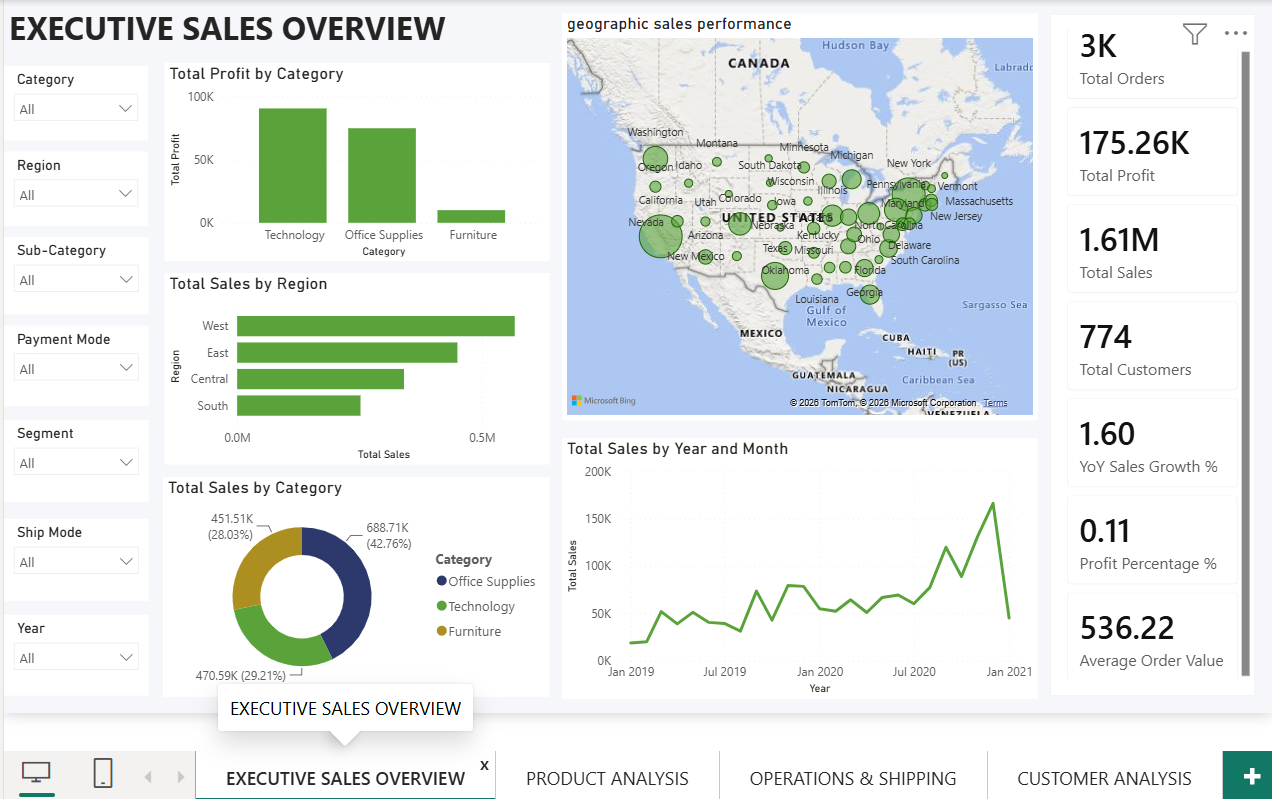

This screenshot's page, from the dashboard's own definition file:
{"tool":"powerbi","page":{"name":"EXECUTIVE SALES OVERVIEW","canvas":[1280,720],"ordinal":0},"visuals":[{"type":"cardVisual","fields":{"Data":["Table.Total Orders","Table.Total Profit","Table.Total Sales","Table.Total Customers","Table.YoY Sales Growth %","Table.Profit Percentage %","Table.Average Order Value"]},"box":[1055.4,13.6,207.4,689],"z":0},{"type":"lineChart","fields":{"Y":["Table.Total Sales"],"Category":["Calendar.Date.Variation.Date Hierarchy.Year","Calendar.Date.Variation.Date Hierarchy.Month"]},"box":[563.3,441.7,480,263.3],"z":1000},{"type":"donutChart","fields":{"Y":["Table.Total Sales"],"Category":["SuperStore_Sales_Dataset (2).Category"]},"box":[160,481.7,390,221.7],"z":2000},{"type":"barChart","fields":{"Category":["SuperStore_Sales_Dataset (2).Region"],"Y":["Table.Total Sales"]},"box":[161.7,275,388.3,193.3],"z":3000},{"type":"columnChart","fields":{"Y":["Table.Total Profit"],"Category":["SuperStore_Sales_Dataset (2).Category"]},"box":[161.7,63.3,388.3,200],"z":4000},{"type":"slicer","fields":{"Values":["Calendar.Year"]},"box":[0,621.2,145.8,81.2],"z":5000},{"type":"slicer","fields":{"Values":["SuperStore_Sales_Dataset (2).Ship Mode"]},"box":[0,523.5,145.8,82.8],"z":6000},{"type":"slicer","fields":{"Values":["SuperStore_Sales_Dataset (2).Segment"]},"box":[0,424.1,145.8,82.8],"z":7000},{"type":"slicer","fields":{"Values":["SuperStore_Sales_Dataset (2).Sub-Category"]},"box":[0,238.6,145.8,77.9],"z":8000},{"type":"textbox","box":[0,0,475,58.3],"z":9000},{"type":"slicer","fields":{"Values":["SuperStore_Sales_Dataset (2).Region"]},"box":[0,153.3,145,75],"z":10000},{"type":"slicer","fields":{"Values":["SuperStore_Sales_Dataset (2).Category"]},"box":[0,66.7,145,75],"z":11000},{"type":"slicer","fields":{"Values":["SuperStore_Sales_Dataset (2).Payment Mode"]},"box":[0,328,145.8,81.2],"z":12000},{"type":"map","title":"geographic sales performance","fields":{"Category":["SuperStore_Sales_Dataset (2).State"],"Size":["Table.Total Sales"]},"box":[563.3,13.3,480,410],"z":13000}]}

Visuals, with their boxes on the page's 1280x720 design canvas (x1, y1, x2, y2). These are canvas units, not pixel positions in the 1272x799 screenshot, which may show the page scaled, cropped or inside an application window:
cardVisual - Table.Total Orders x Table.Total Profit: x1=1055, y1=14, x2=1263, y2=703
lineChart - Table.Total Sales x Calendar.Date.Variation.Date Hierarchy.Year: x1=563, y1=442, x2=1043, y2=705
donutChart - Table.Total Sales x SuperStore_Sales_Dataset (2).Category: x1=160, y1=482, x2=550, y2=703
barChart - SuperStore_Sales_Dataset (2).Region x Table.Total Sales: x1=162, y1=275, x2=550, y2=468
columnChart - Table.Total Profit x SuperStore_Sales_Dataset (2).Category: x1=162, y1=63, x2=550, y2=263
slicer - Calendar.Year: x1=0, y1=621, x2=146, y2=702
slicer - SuperStore_Sales_Dataset (2).Ship Mode: x1=0, y1=524, x2=146, y2=606
slicer - SuperStore_Sales_Dataset (2).Segment: x1=0, y1=424, x2=146, y2=507
slicer - SuperStore_Sales_Dataset (2).Sub-Category: x1=0, y1=239, x2=146, y2=316
textbox: x1=0, y1=0, x2=475, y2=58
slicer - SuperStore_Sales_Dataset (2).Region: x1=0, y1=153, x2=145, y2=228
slicer - SuperStore_Sales_Dataset (2).Category: x1=0, y1=67, x2=145, y2=142
slicer - SuperStore_Sales_Dataset (2).Payment Mode: x1=0, y1=328, x2=146, y2=409
"geographic sales performance" map: x1=563, y1=13, x2=1043, y2=423
